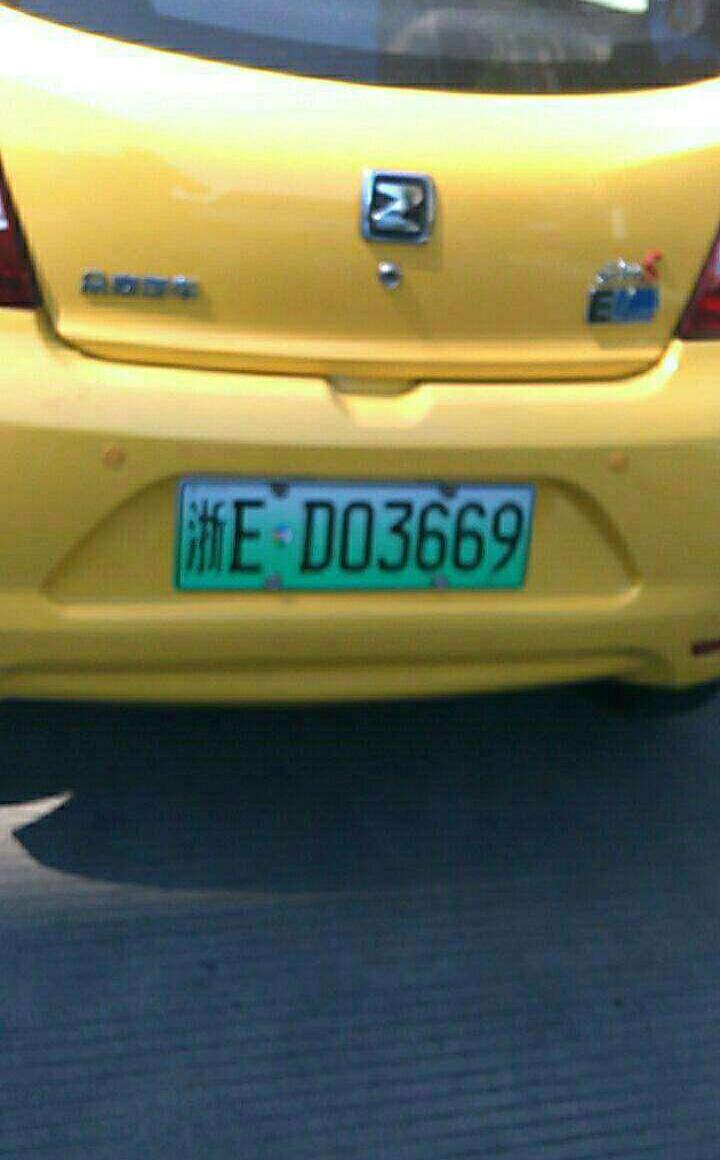car_id: (182, 477, 530, 587)
